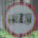Heavy Vehicles: (1, 0, 37, 34)
